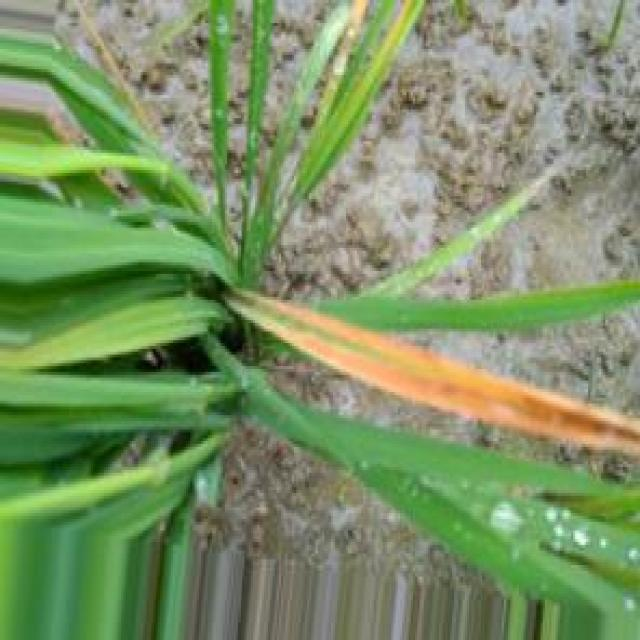Rice Tungro: (228, 290, 640, 454)
